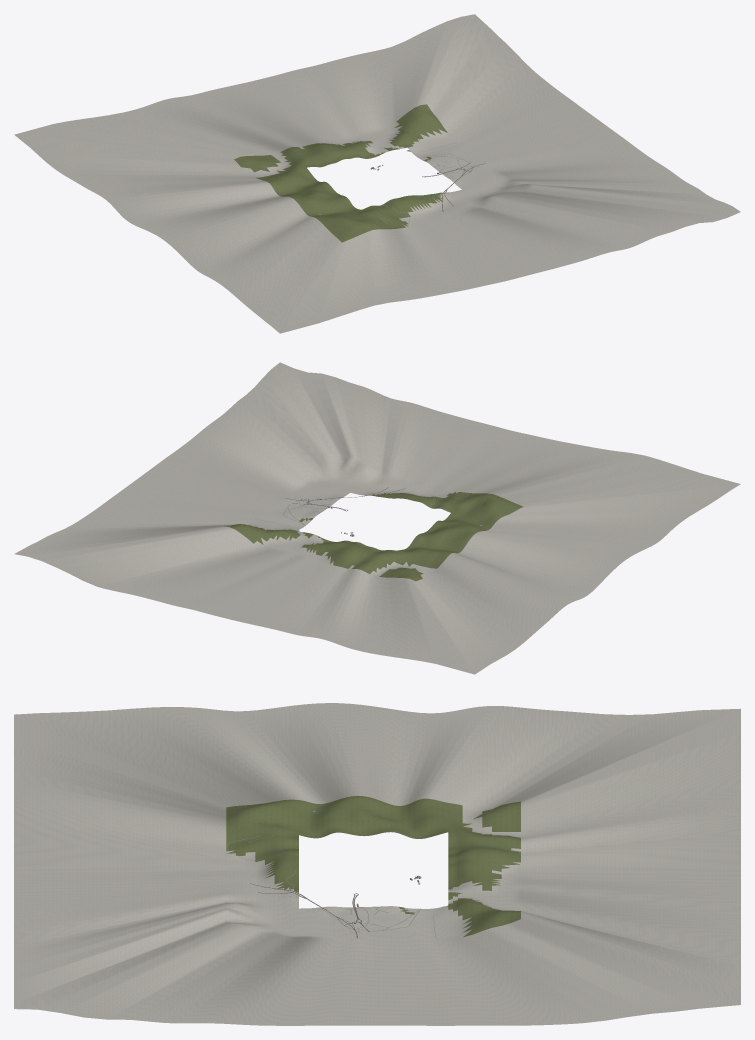
3 renders of one model, top to bottom at view 1: azimuth 30°, elevation 25°; view 2: azimuth 150°, elevation 25°; view 3: azimuth 270°, elevation 25°, orthographic. The views are drawn at different scales.
Parts seen in each view (by area): view 1: ctx-ground; view 2: ctx-ground; view 3: ctx-ground.
Part boxes in pixels (x1=…): ctx-ground: x1=14, y1=14, x2=740, y2=333; ctx-ground: x1=14, y1=362, x2=740, y2=674; ctx-ground: x1=14, y1=703, x2=740, y2=1025.
Size of the model in its own units: 6000 by 202 by 6000.
13 materials, 10 textured.
